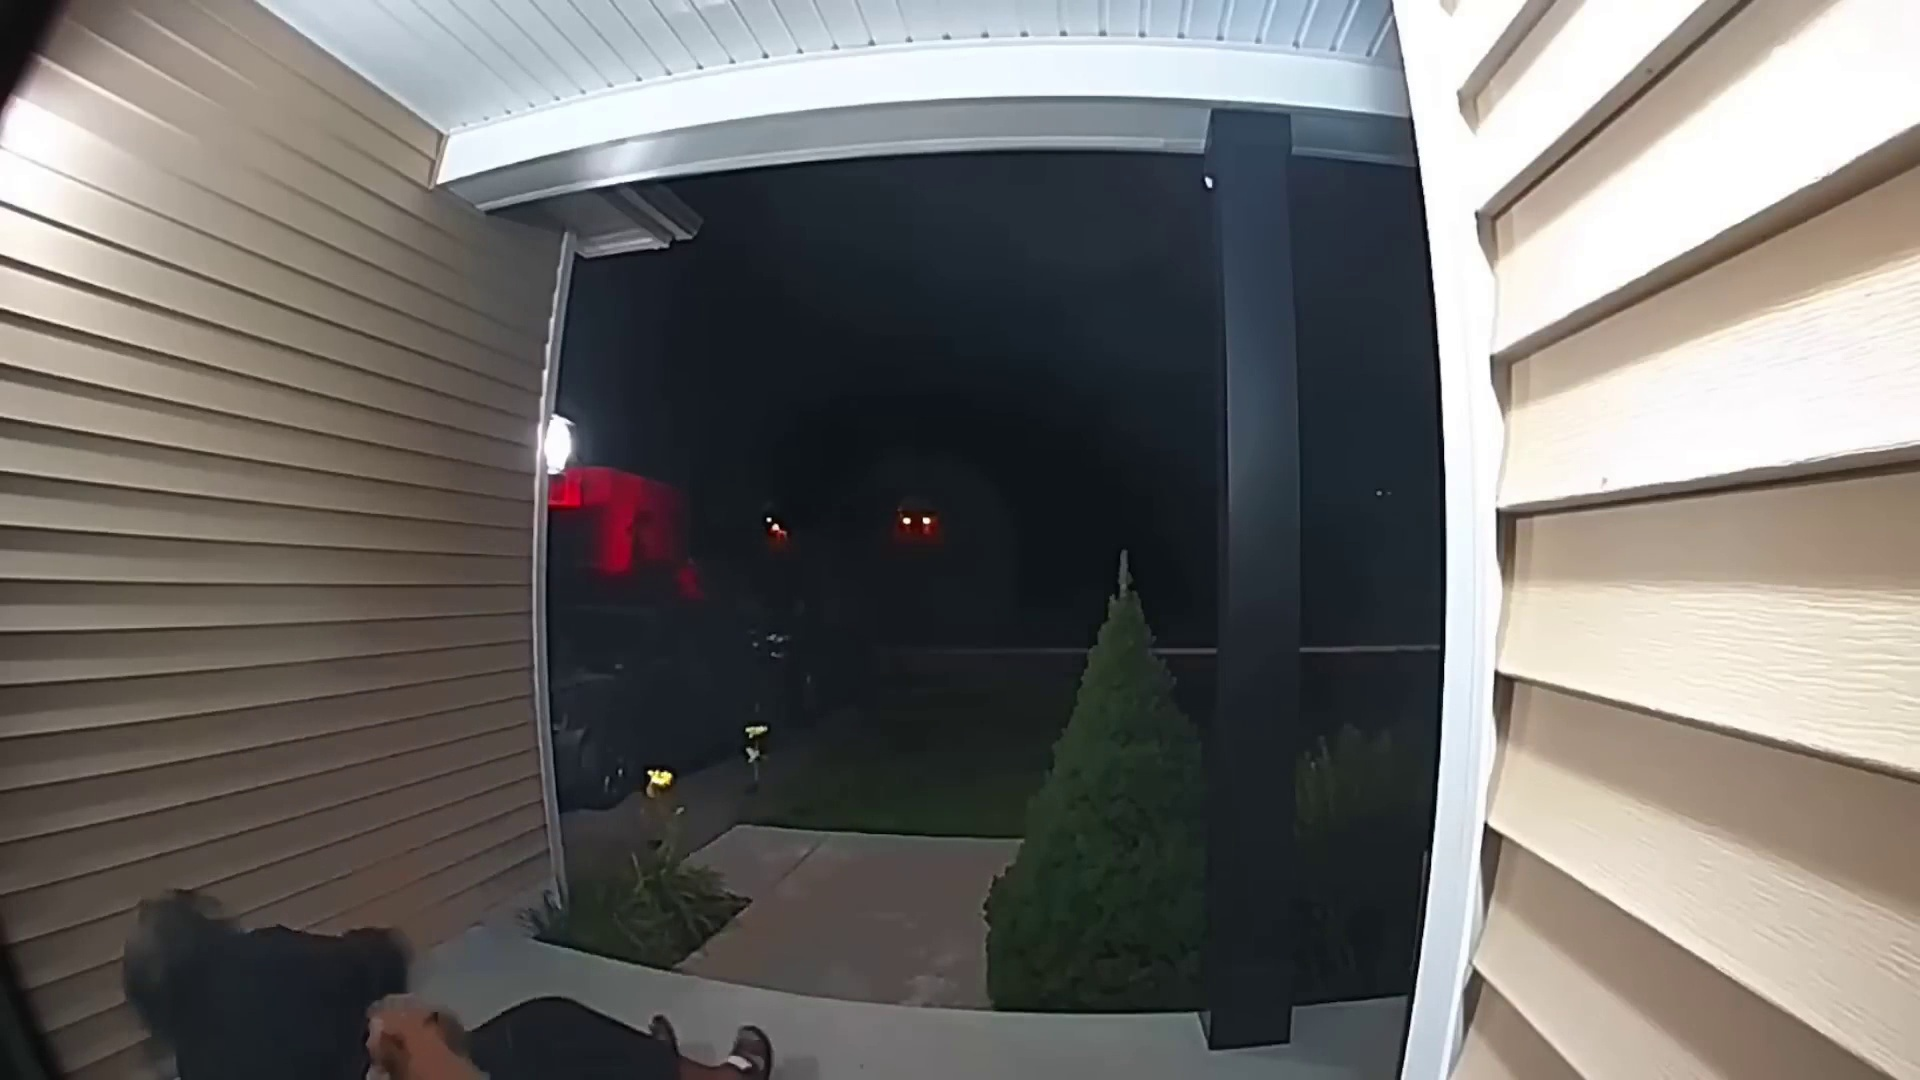fall: (116, 894, 765, 1080)
